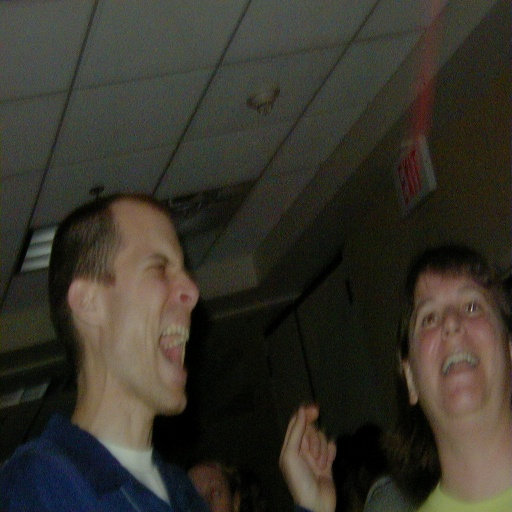hand: (276, 421, 345, 499)
